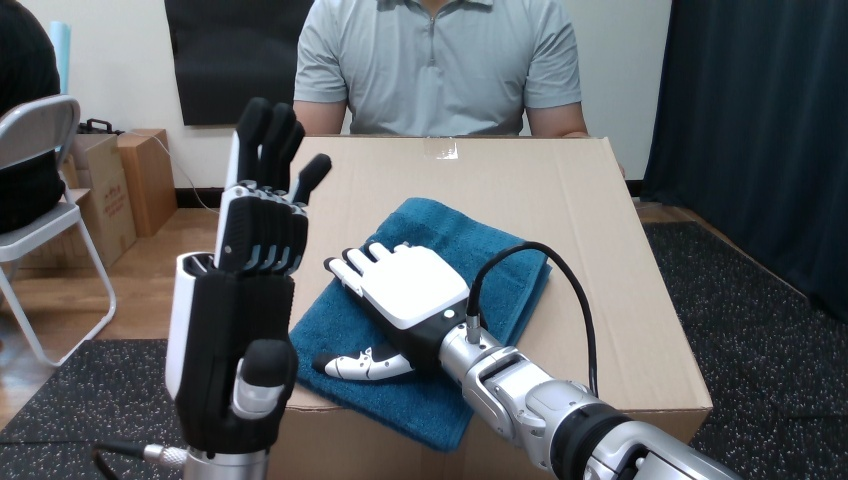left robot hand: (313, 241, 738, 479), (313, 242, 737, 479), (93, 98, 330, 479), (478, 247, 590, 387), (479, 249, 589, 386)
